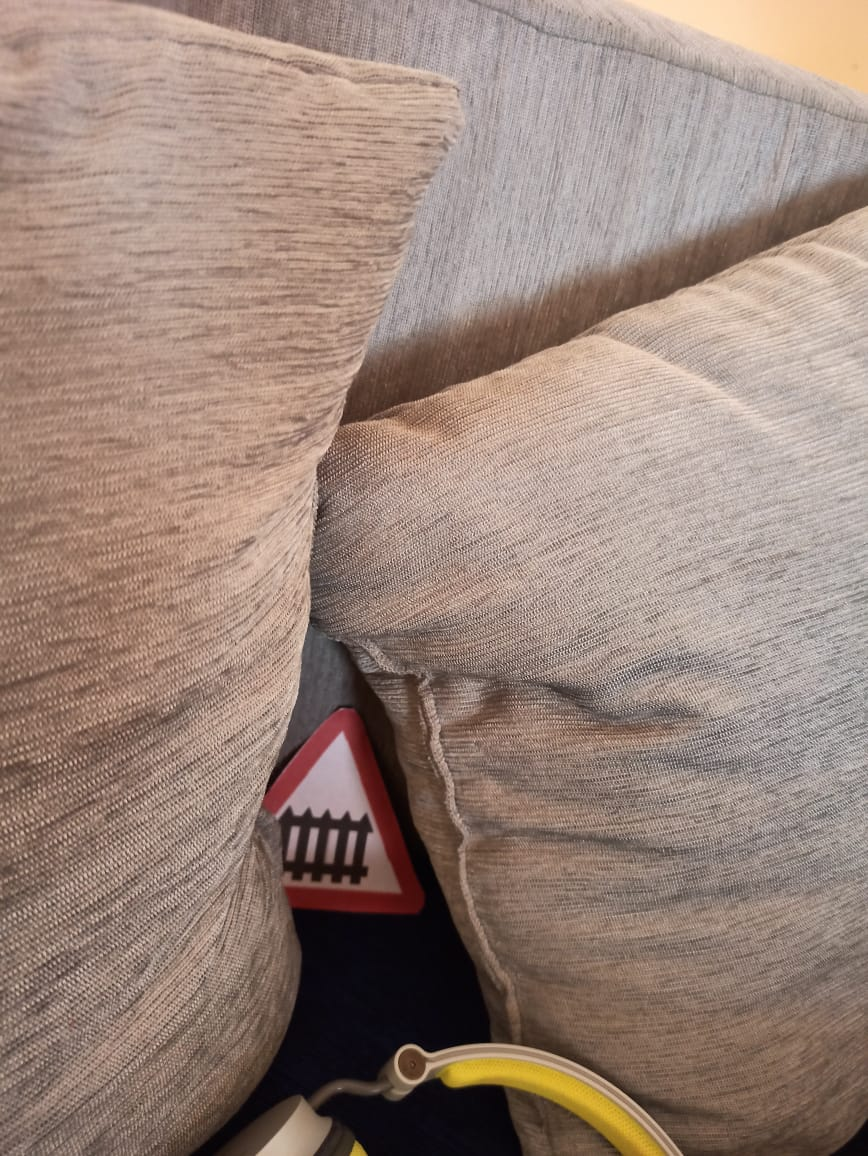GUARDED LEVEL CROSSING: (221, 698, 436, 922)
